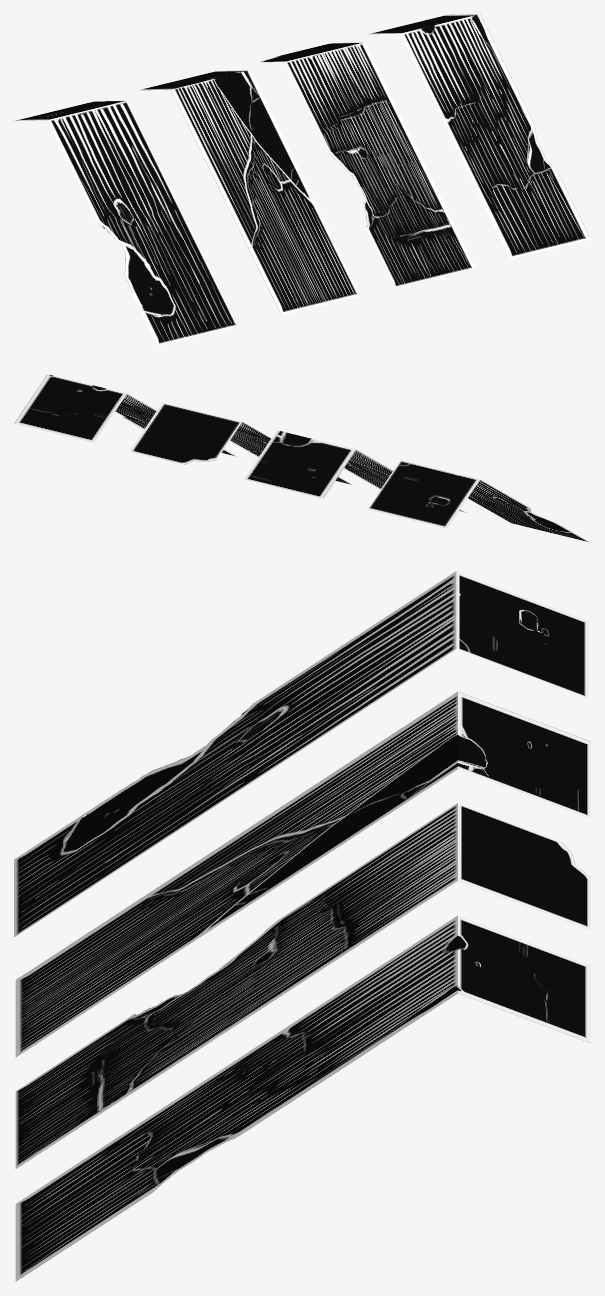
File: pillar.fbx
3 views of the same model, one above another, from view 1: azimuth 30°, elevation 25°; view 2: azimuth 150°, elevation 25°; view 3: azimuth 270°, elevation 25° (orthographic). The views are drawn at different scales.
Parts seen in each view (by area): view 1: Cube.003, Cube.001, Cube.004, Cube.002; view 2: Cube.004, Cube.003, Cube.001, Cube.002; view 3: Cube.003, Cube.001, Cube.004, Cube.002.
Part boxes in pixels (bbox=[...]): Cube.003: bbox=[138, 70, 360, 315]; Cube.001: bbox=[368, 14, 590, 258]; Cube.004: bbox=[14, 100, 237, 345]; Cube.002: bbox=[260, 42, 475, 287]; Cube.004: bbox=[367, 460, 589, 542]; Cube.003: bbox=[244, 430, 466, 512]; Cube.001: bbox=[14, 374, 236, 456]; Cube.002: bbox=[129, 402, 351, 484]; Cube.003: bbox=[15, 691, 590, 1057]; Cube.001: bbox=[15, 915, 590, 1281]; Cube.004: bbox=[14, 571, 589, 937]; Cube.002: bbox=[15, 803, 590, 1168].
Bounding box in the file's own units: 1083 × 345 × 625.
Materials: 4 (4 with a texture image).
